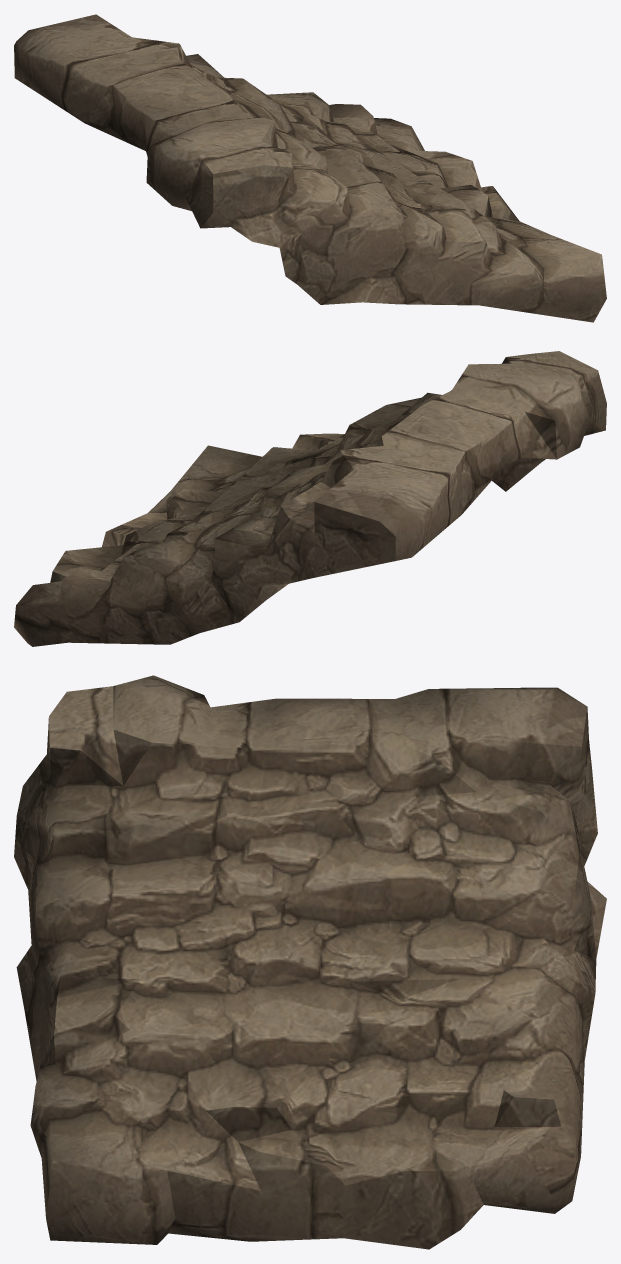
The model's file is environment_stone_shanti_004_f.FBX.
3 views of the same model, one above another, from view 1: azimuth 30°, elevation 25°; view 2: azimuth 150°, elevation 25°; view 3: azimuth 270°, elevation 25° (orthographic). The views are drawn at different scales.
Parts seen in each view (by area): view 1: environment_stone_shanti_004_f; view 2: environment_stone_shanti_004_f; view 3: environment_stone_shanti_004_f.
Boxes of the visible parts, left/top/right/bottom form: environment_stone_shanti_004_f: left=14, top=14, right=606, bottom=322; environment_stone_shanti_004_f: left=14, top=351, right=606, bottom=646; environment_stone_shanti_004_f: left=14, top=675, right=606, bottom=1249.
Size of the model in its own units: 9.75 by 5.58 by 9.27.
Materials: 1 (1 with a texture image).
